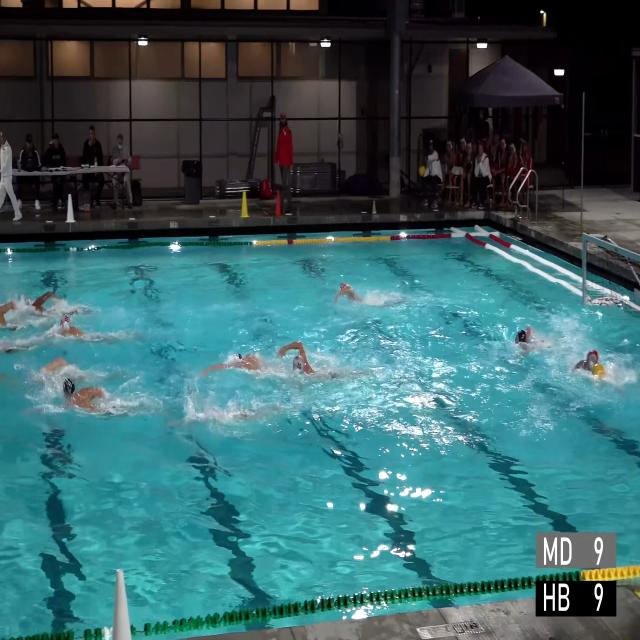ball: (592, 363, 604, 377), (419, 165, 425, 177)
